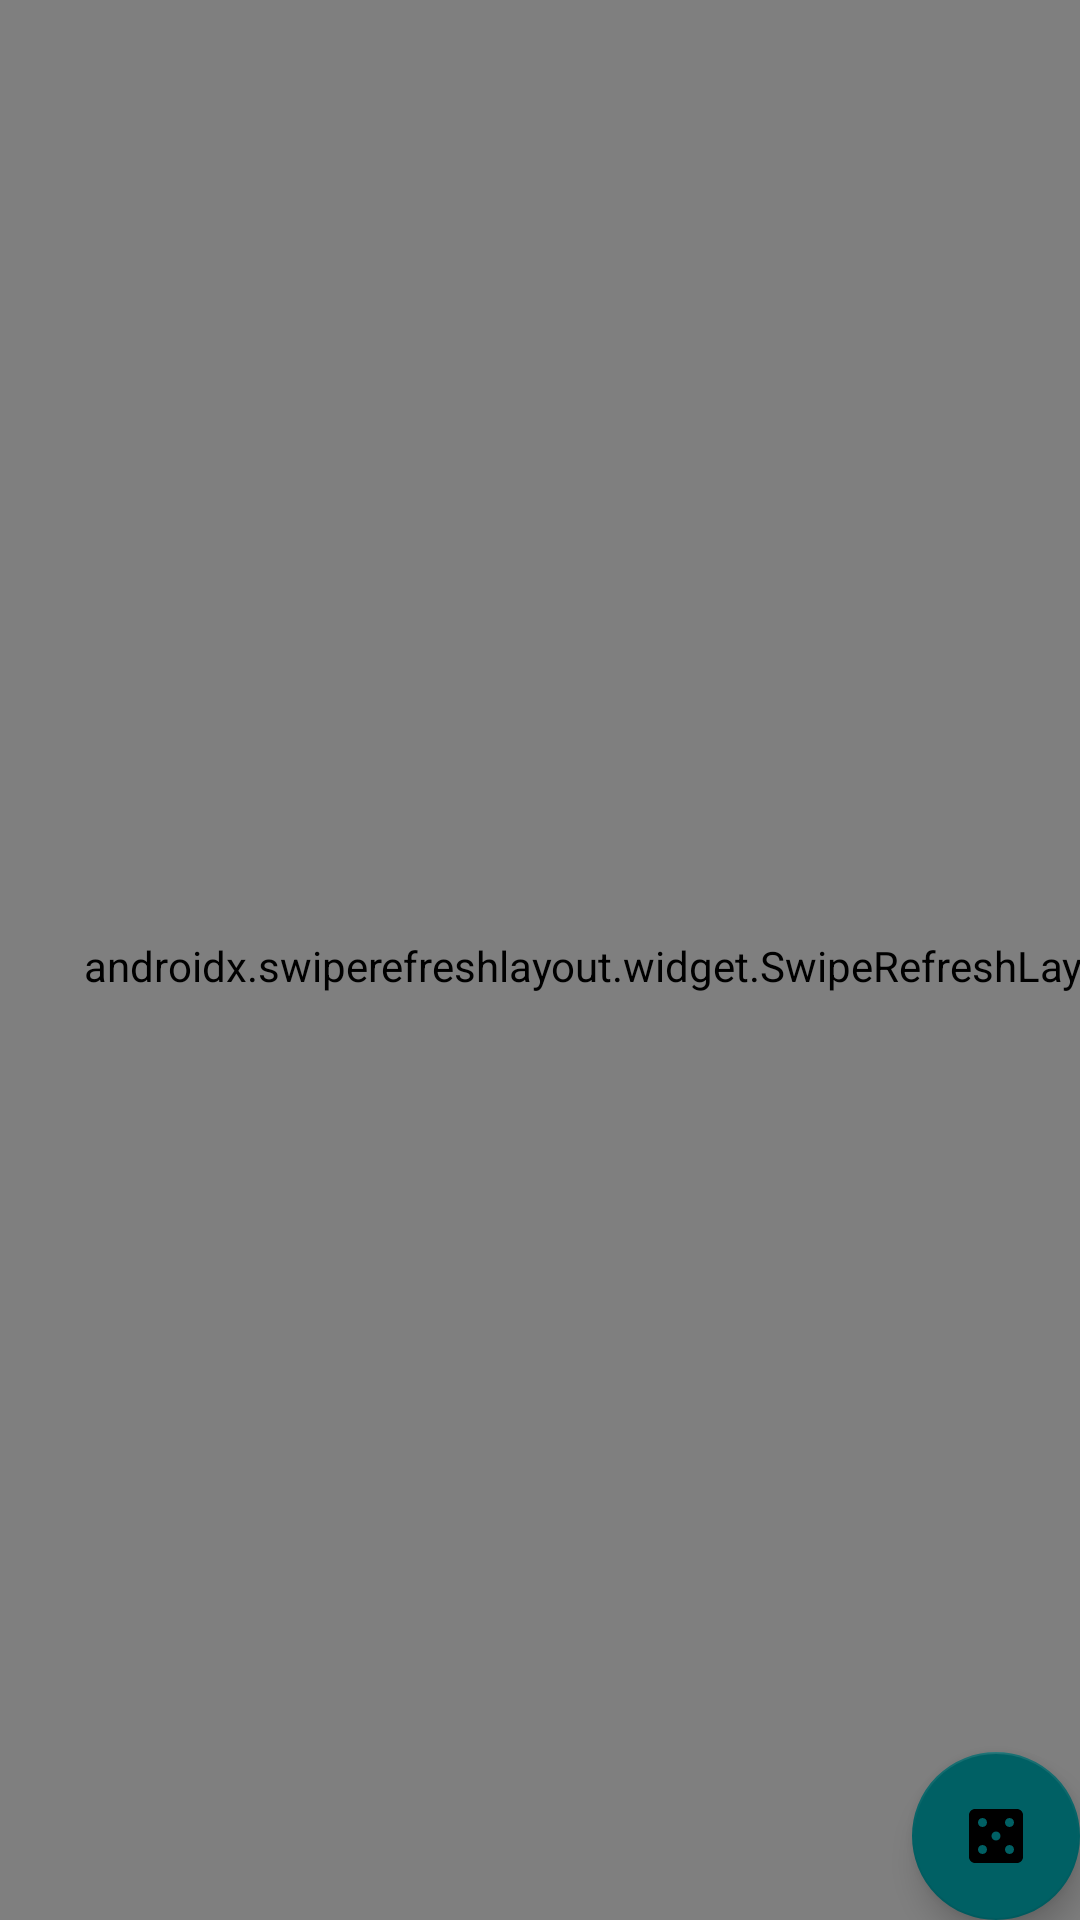

Icons on this 1080w x 1920h Android screen, each with the point to tap as [x,y]:
Matches simulation button: [996,1836]
